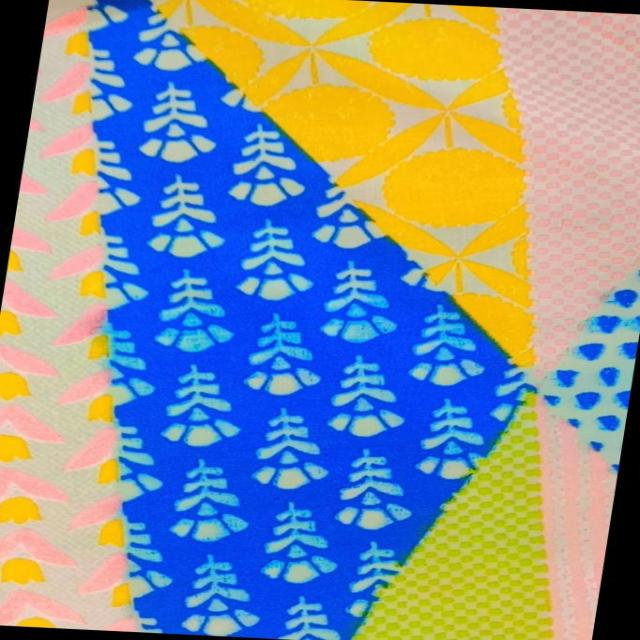color issues: (539, 243, 640, 496)
